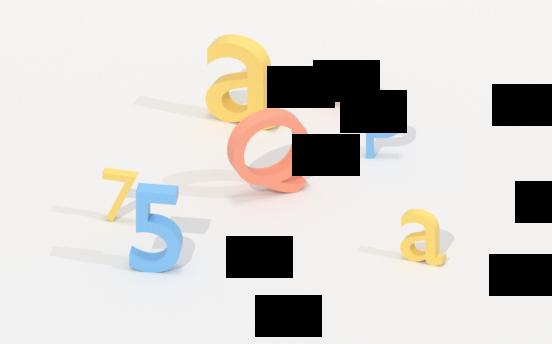5: (128, 182, 182, 277)
7: (99, 165, 139, 226)
a: (206, 33, 273, 128), (398, 205, 447, 270)
m: (317, 63, 377, 114)
p: (362, 101, 404, 167)
q: (228, 110, 314, 203)
